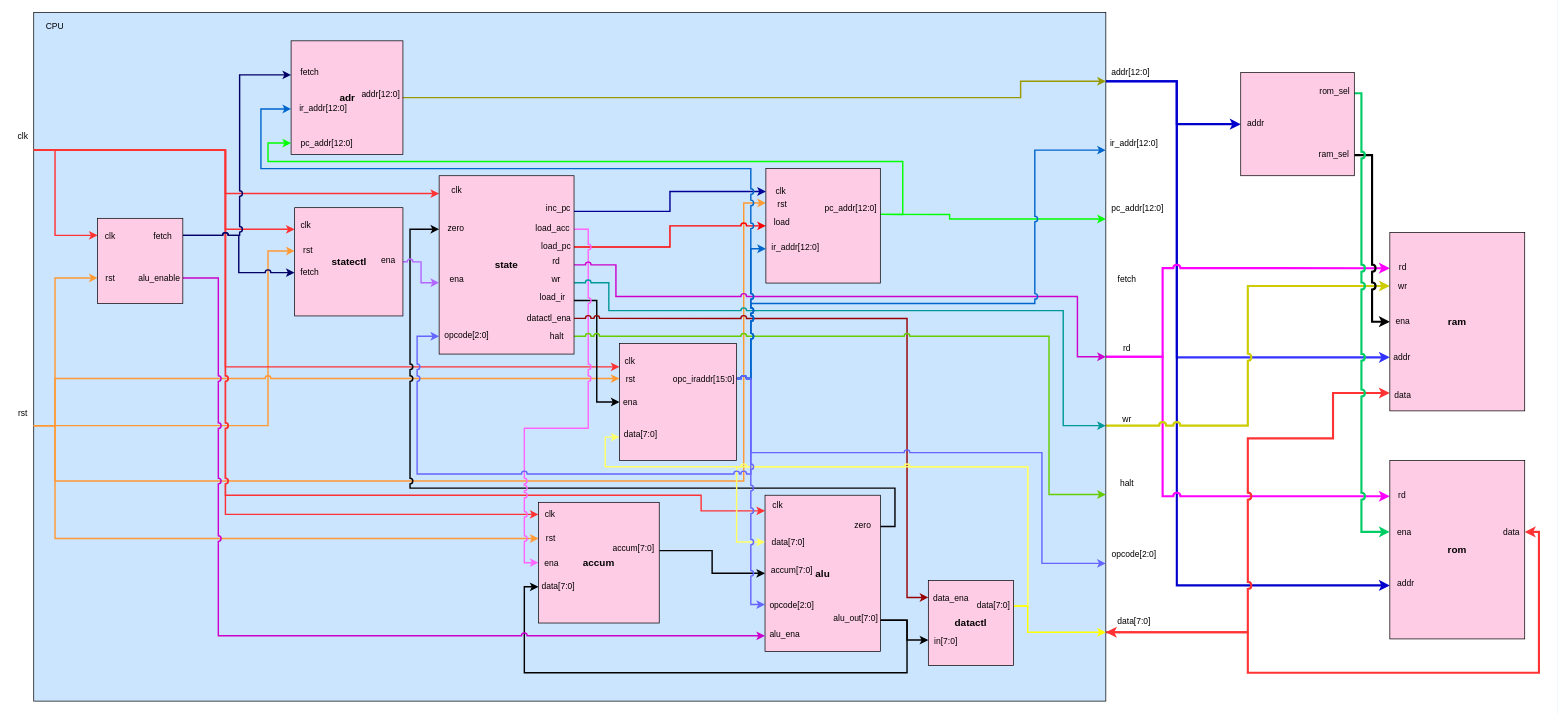
Some shapes in this 1558 by 714 pixel diagram are drawn without their labels. The box of each missing label's shape, as (x1, y1, x2, y2) in pixels:
adr_decoder: (1240, 72, 1354, 176)
clk_gen: (97, 218, 183, 304)
counter: (765, 168, 880, 283)
register: (619, 343, 737, 461)
